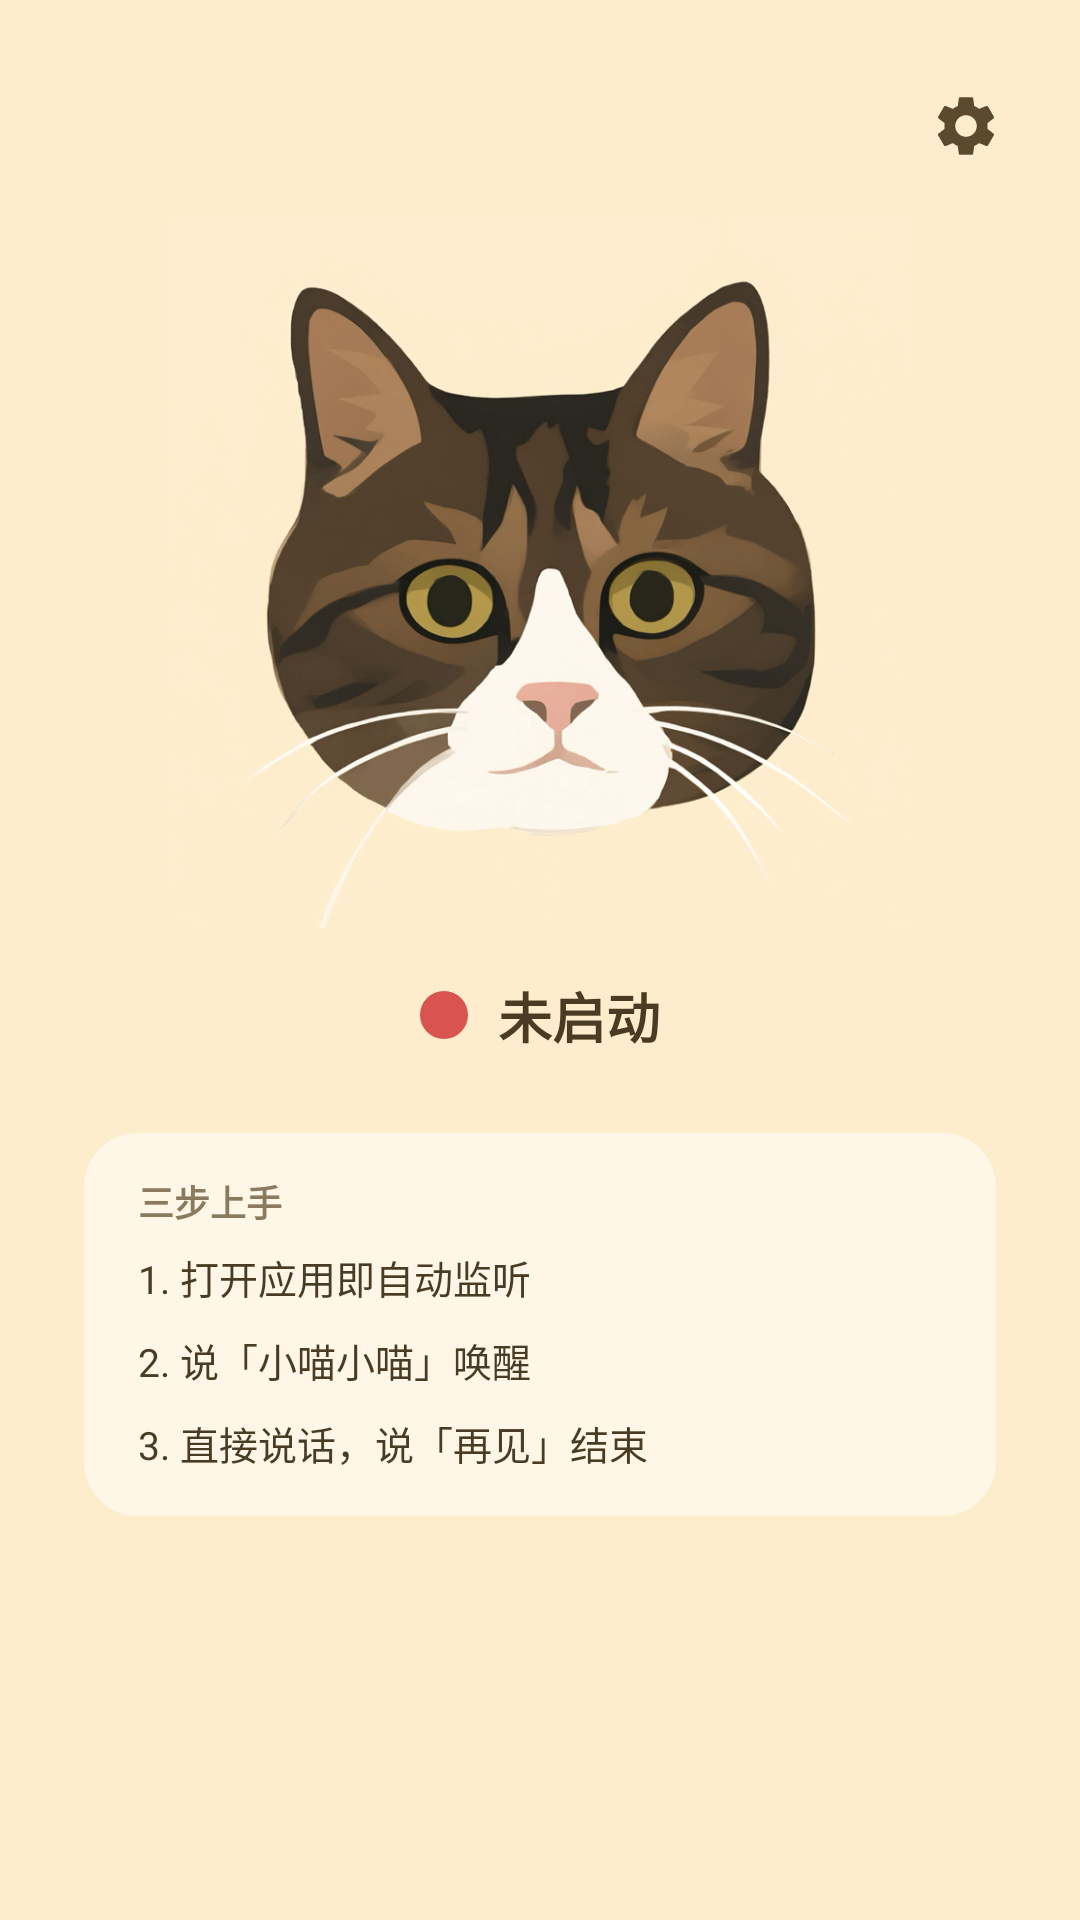

Screen size 1080 x 1920. Icon name, then its center in pixels as [x,y]:
设置: [966,126]
